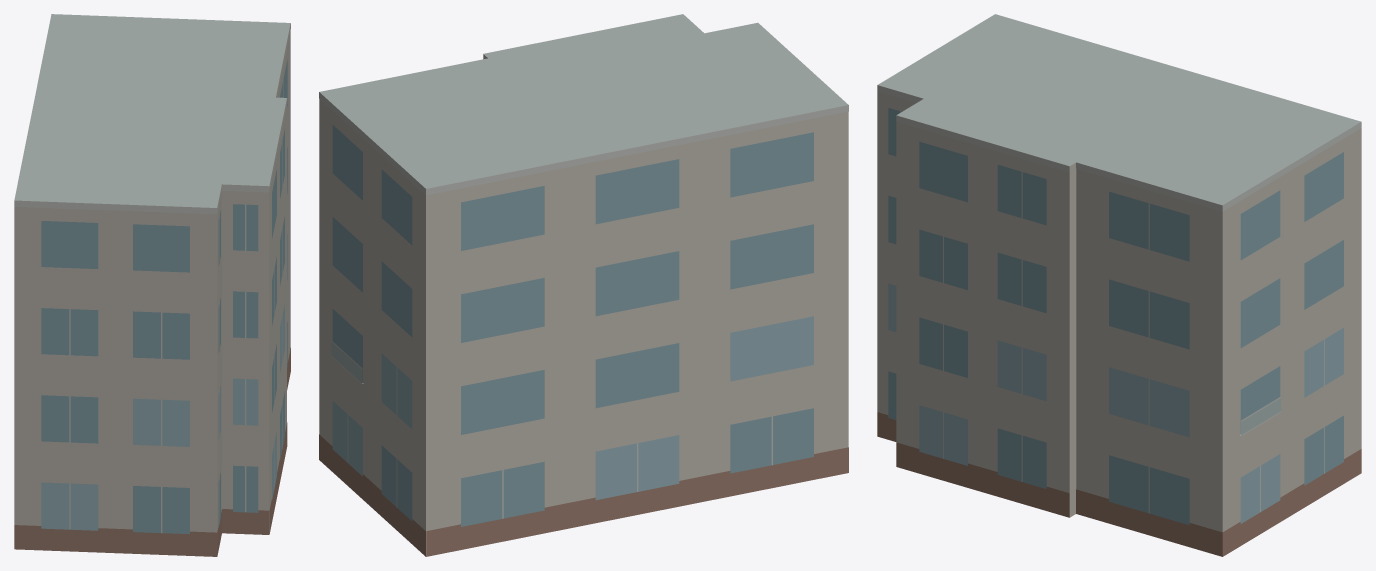
The model's file is survey-upis-32938001.glb.
3 renders of one model, left to right at view 1: azimuth 30°, elevation 25°; view 2: azimuth 150°, elevation 25°; view 3: azimuth 270°, elevation 25°, orthographic. The views are drawn at different scales.
Visible parts, largest first — view 1: survey-upis-32938001.tmp; view 2: survey-upis-32938001.tmp; view 3: survey-upis-32938001.tmp.
Boxes of the visible parts, <box> form: survey-upis-32938001.tmp: <box>14,14,290,556</box>; survey-upis-32938001.tmp: <box>319,14,848,556</box>; survey-upis-32938001.tmp: <box>877,14,1361,556</box>.
Bounding box in the file's own units: 16.03 × 13.72 × 17.14.
